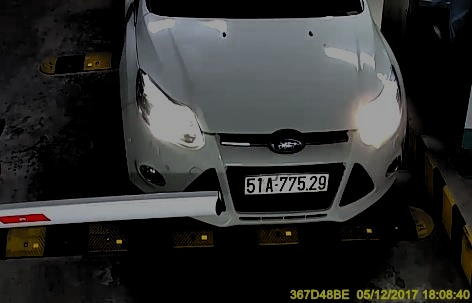plate: (244, 169, 329, 193)
